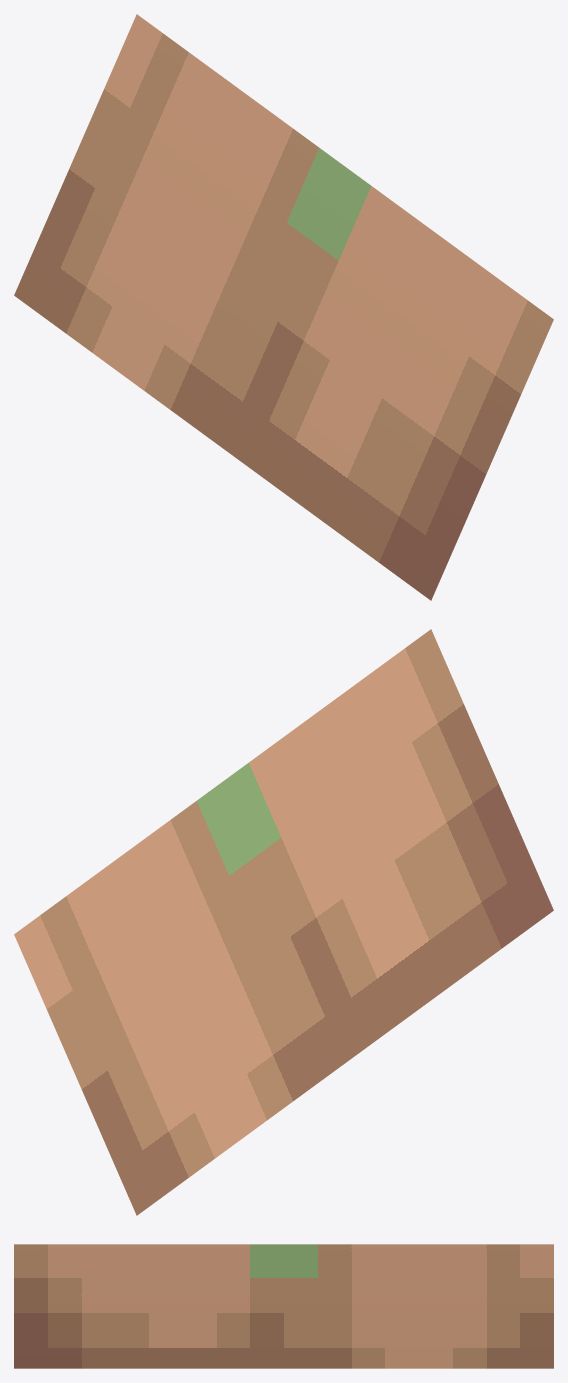
3 renders of one model, top to bottom at view 1: azimuth 30°, elevation 25°; view 2: azimuth 150°, elevation 25°; view 3: azimuth 270°, elevation 25°, orthographic. The views are drawn at different scales.
Bounding box in the file's own units: 0.1699 × 0.3326 × 1.
1 material, 1 textured.
